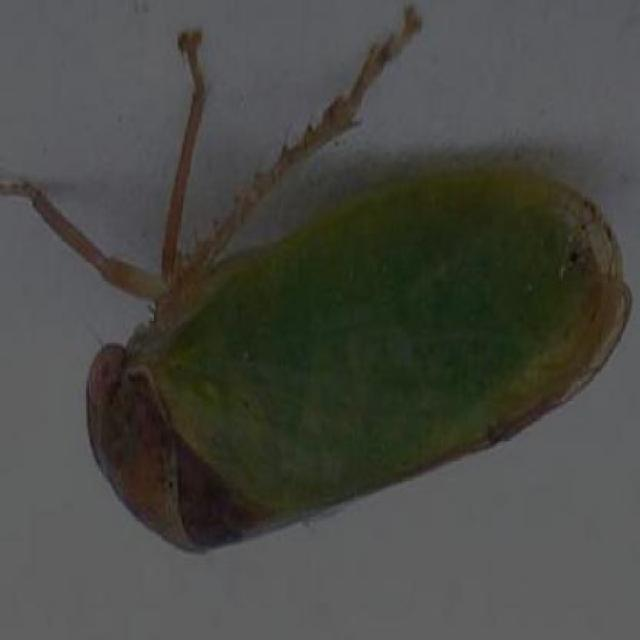green-leafhopper: (80, 170, 623, 553)
